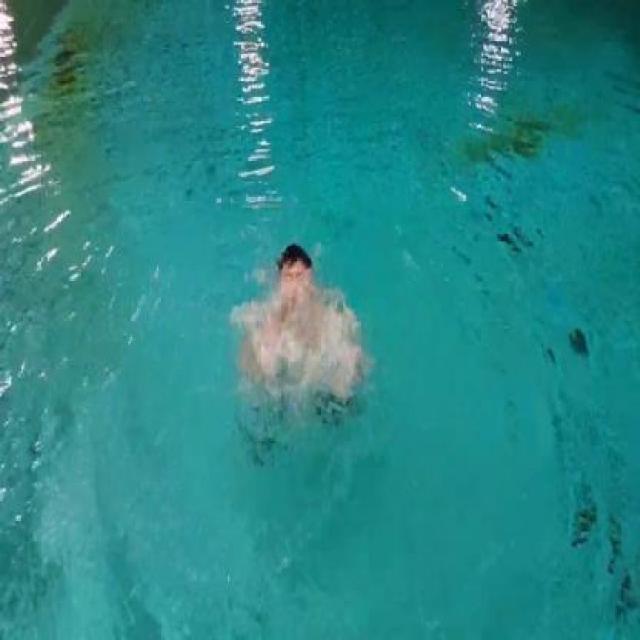Out of Water: (229, 235, 360, 403)
